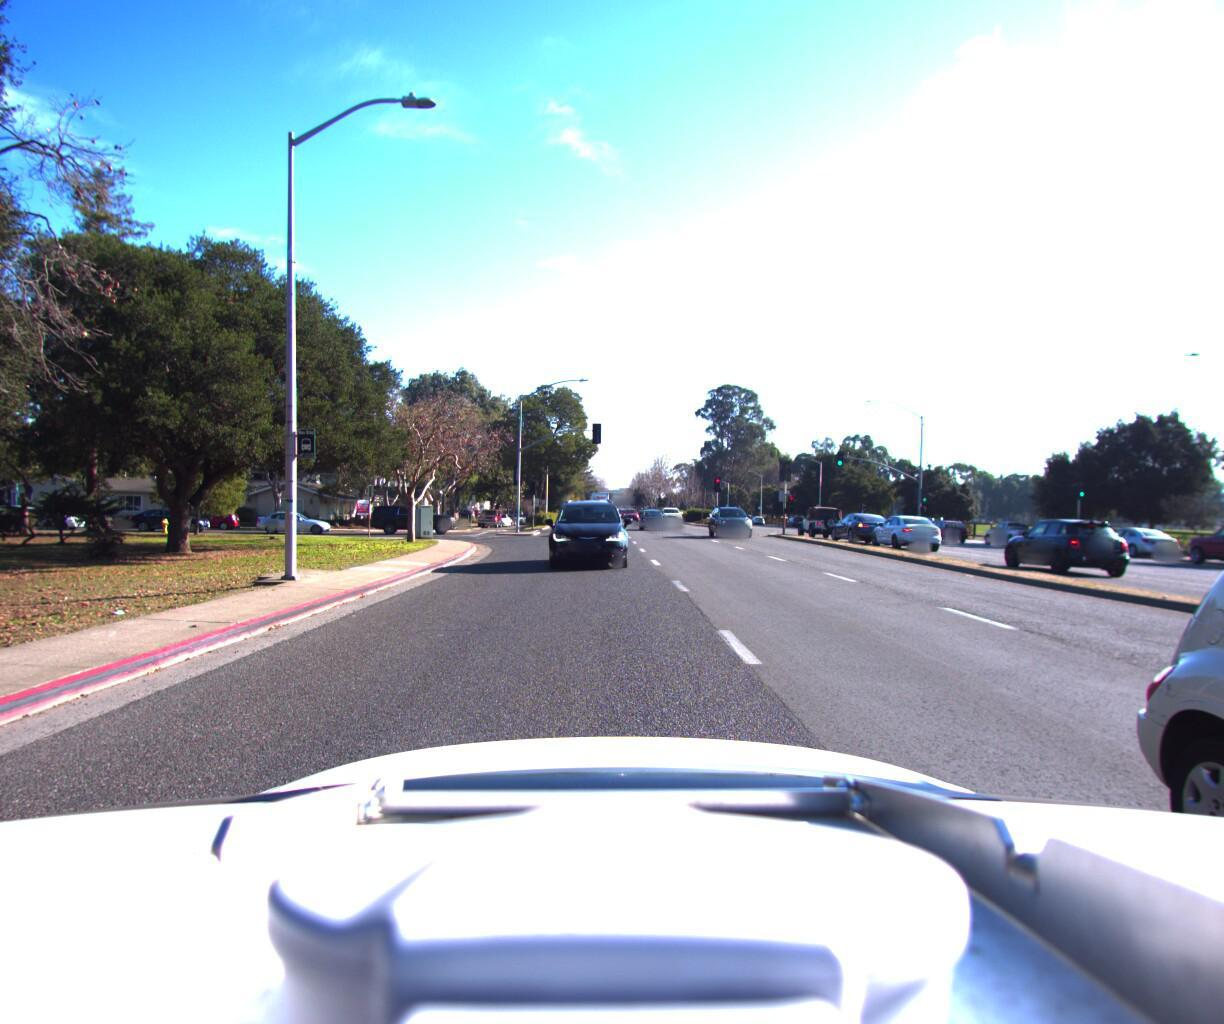car: (996, 519, 1144, 584), (539, 497, 629, 582), (1083, 530, 1183, 567), (864, 519, 946, 558), (366, 511, 462, 544), (1177, 525, 1224, 581), (827, 518, 900, 552), (126, 514, 217, 541), (253, 516, 336, 542), (979, 525, 1049, 555), (170, 514, 246, 539), (794, 511, 848, 546), (703, 509, 751, 547), (918, 523, 973, 549), (634, 515, 664, 538), (657, 511, 684, 532), (476, 515, 502, 535)
